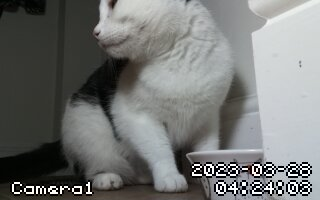bad: (27, 2, 244, 194)
